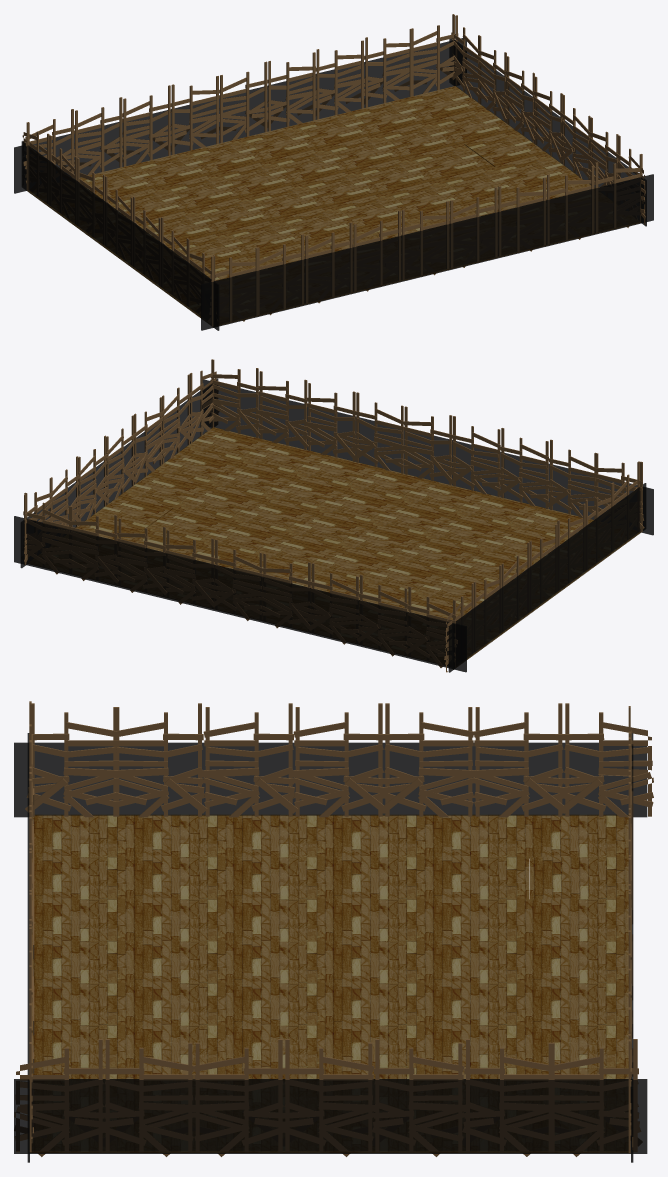
Rendered from floor1.fbx.
3 renders of one model, top to bottom at view 1: azimuth 30°, elevation 25°; view 2: azimuth 150°, elevation 25°; view 3: azimuth 270°, elevation 25°, orthographic. The views are drawn at different scales.
Parts seen in each view (by area): view 1: floor2.001, wall2.black, wall2.001, wall2.004, wall2.002, wall2.003; view 2: floor2.001, wall2.black, wall2.004, wall2.001, wall2.002, wall2.003; view 3: floor2.001, wall2.black, wall2.003, wall2.002, wall2.004, wall2.001.
Boxes of the visible parts, <box> form: floor2.001: <box>27,86,640,325</box>; wall2.black: <box>14,38,653,330</box>; wall2.001: <box>23,15,458,190</box>; wall2.004: <box>209,154,642,326</box>; wall2.002: <box>450,14,645,224</box>; wall2.003: <box>22,131,217,321</box>; floor2.001: <box>28,427,641,665</box>; wall2.black: <box>14,378,653,672</box>; wall2.004: <box>210,359,644,531</box>; wall2.001: <box>23,492,457,667</box>; wall2.002: <box>24,370,218,564</box>; wall2.003: <box>444,461,639,672</box>; floor2.001: <box>30,815,628,1152</box>; wall2.black: <box>14,733,647,1162</box>; wall2.003: <box>25,703,653,817</box>; wall2.002: <box>14,1039,641,1156</box>; wall2.004: <box>29,701,34,1152</box>; wall2.001: <box>628,706,632,1153</box>.
Size of the model in its own units: 14280 by 10858 by 2212.
Materials: 3 (1 with a texture image).
